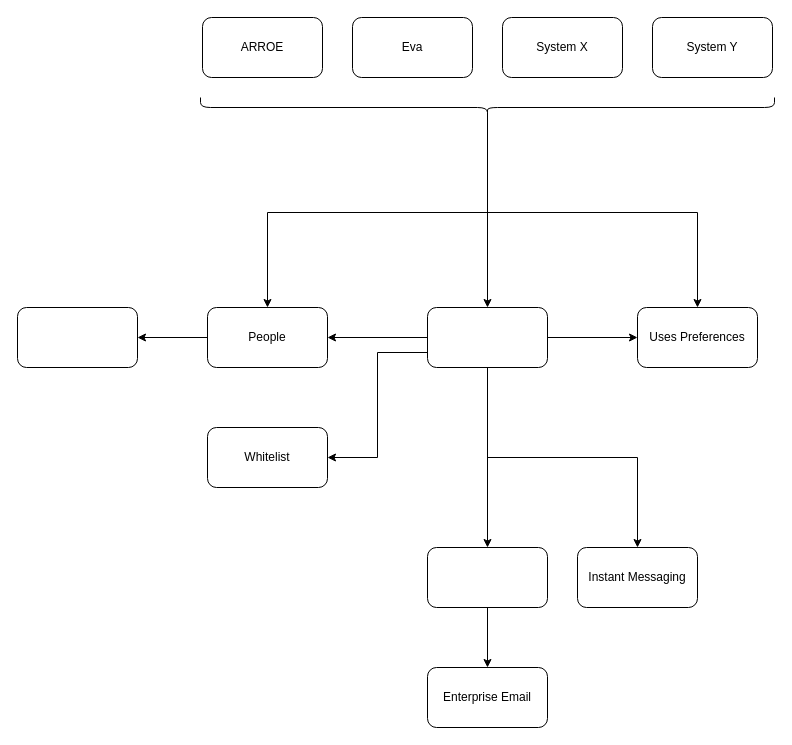
Image size: 792x745. Some labels were removed from this diagram. The shapes that lost their labels are listed below. From the top down, each one's centre as x and y in pixels, then its label:
At (77,337): "Enterprise Access".
At (487,337): "Notifications".
At (487,577): "Email".
